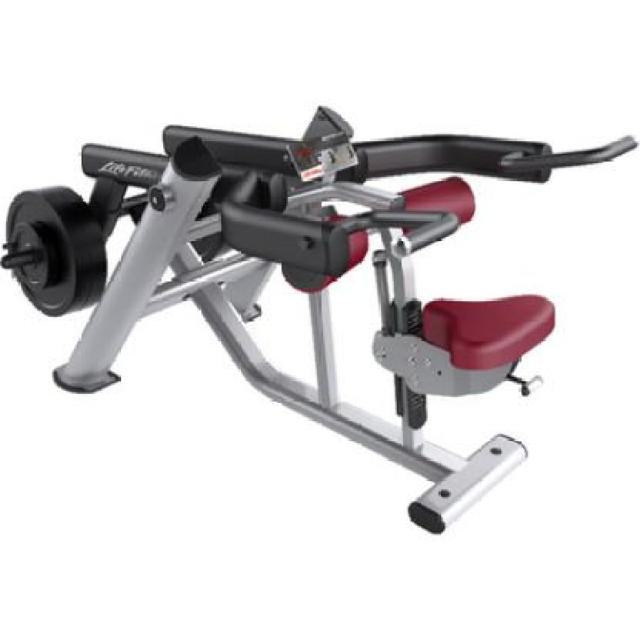seated dip machine: (4, 103, 634, 532)
